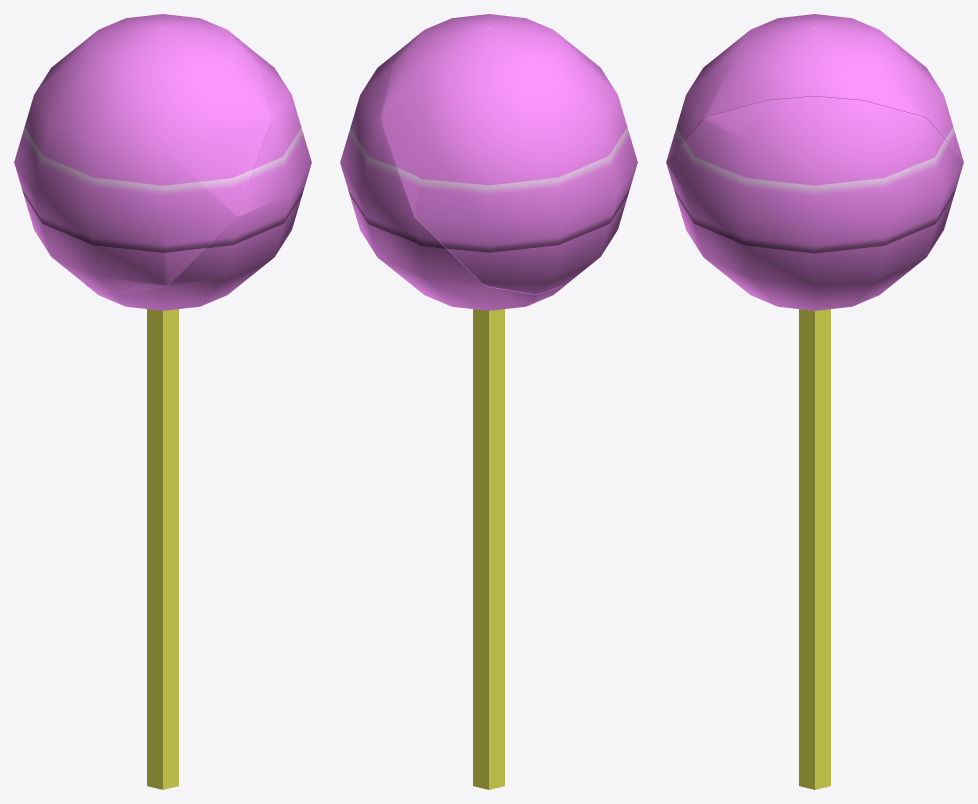
Rendered from candy4_cut.FBX.
3 renders of one model, left to right at view 1: azimuth 30°, elevation 25°; view 2: azimuth 150°, elevation 25°; view 3: azimuth 270°, elevation 25°, orthographic.
Visible parts, largest first — view 1: part1, part2; view 2: part1, part2; view 3: part2, part1.
Boxes of the visible parts, x1,y1,x2,y2 form: part1: [14, 14, 269, 294]; part2: [86, 40, 311, 789]; part1: [382, 14, 637, 294]; part2: [340, 40, 565, 789]; part2: [666, 96, 963, 789]; part1: [666, 14, 963, 161].
Bounding box in the file's own units: 27.69 × 77.43 × 27.68.
